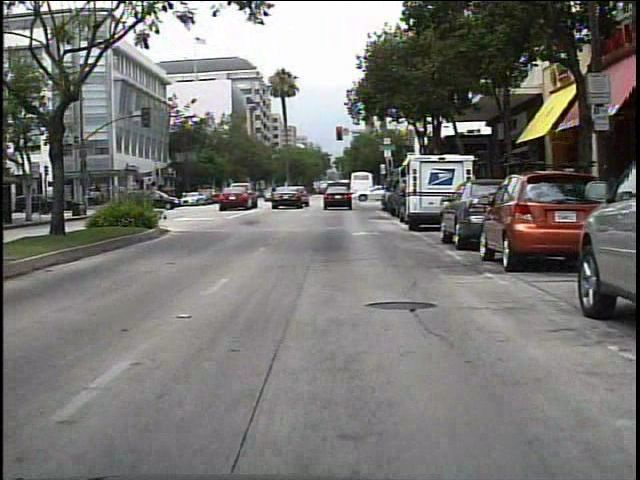person: (266, 182, 280, 206)
